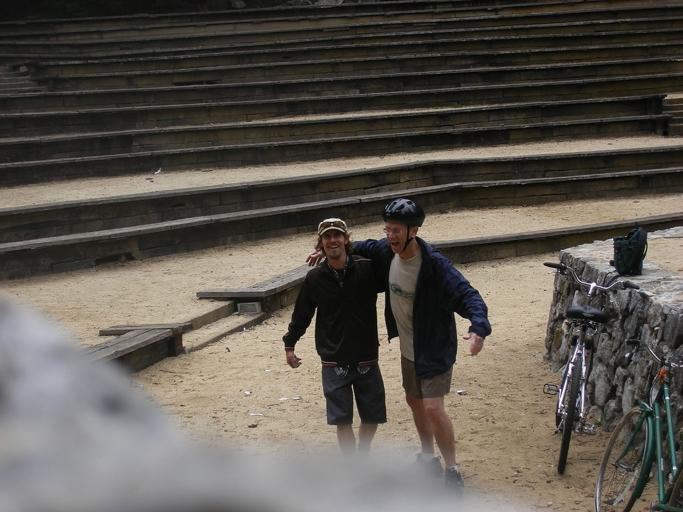non-vehicle: (542, 261, 640, 473), (593, 337, 682, 511)
